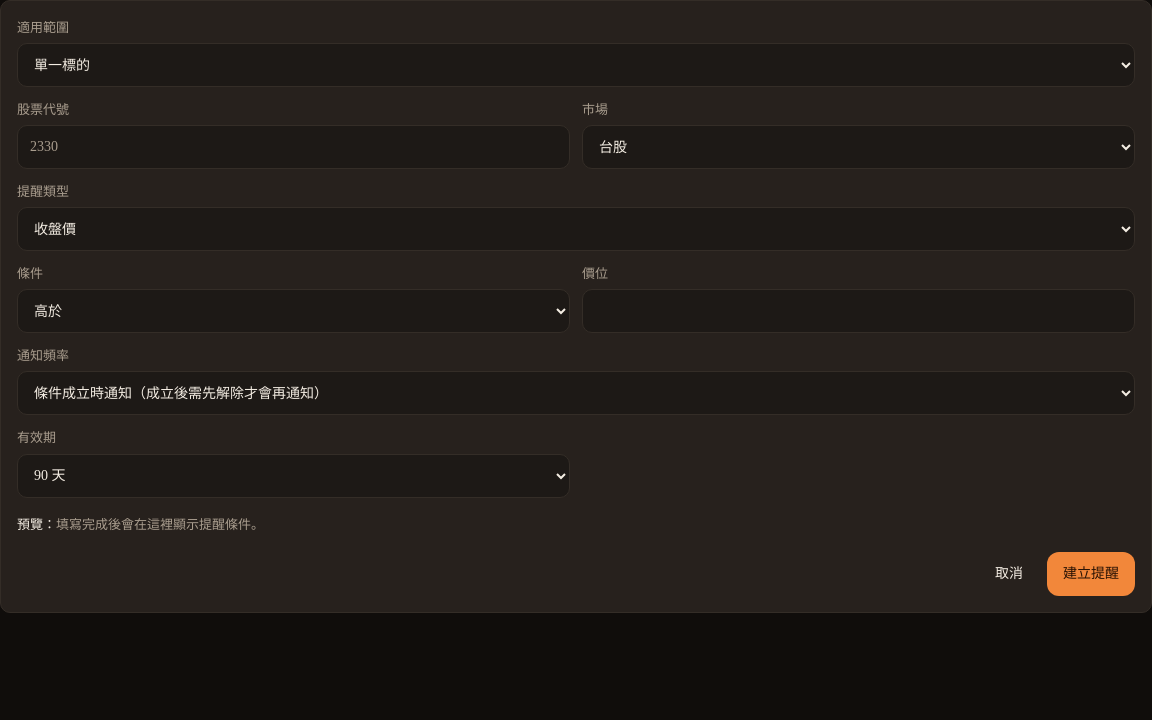
Scenario: AlertForm validation and switching › warns once about an unknown ticker after the user pauses typing
The image size is (1152, 720).
Type "appl" into the field labelled "股票代號".
click(294, 147); type("appl")  # box top-left (17, 125), bottom-right (570, 169)
Wait 600 ms
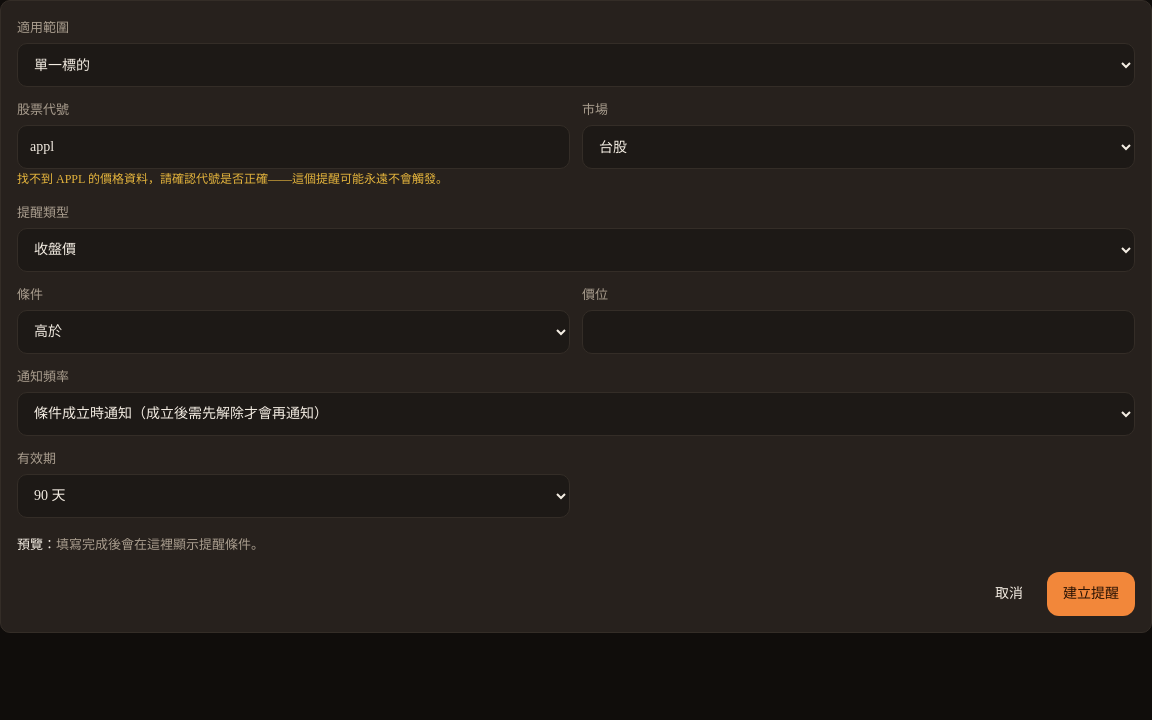
Expected: the message shows "APPL", top-left (17, 172), bottom-right (448, 186)
